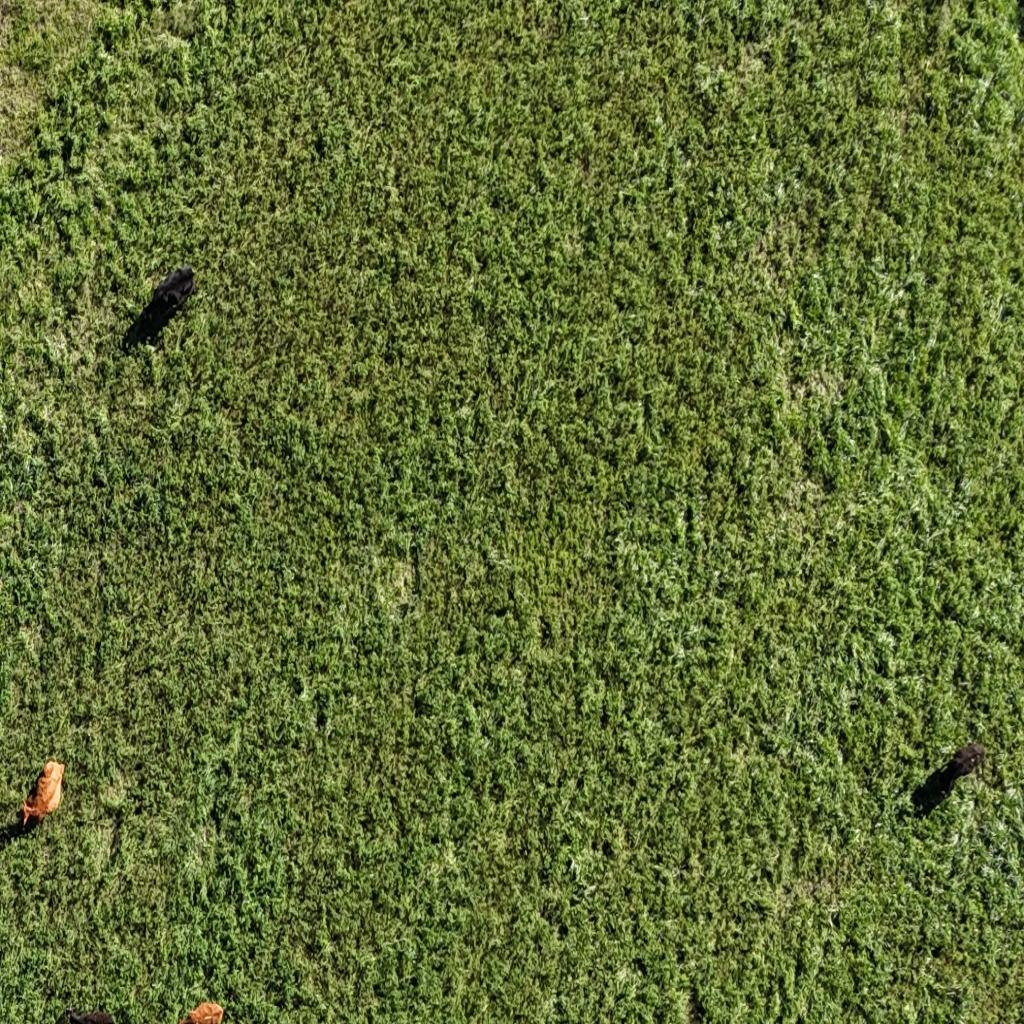cow: (123, 262, 199, 357), (17, 755, 67, 834), (935, 744, 986, 798), (178, 1000, 226, 1024)
